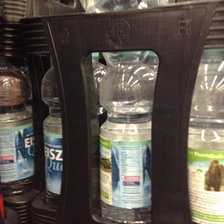water: (100, 53, 150, 224)
